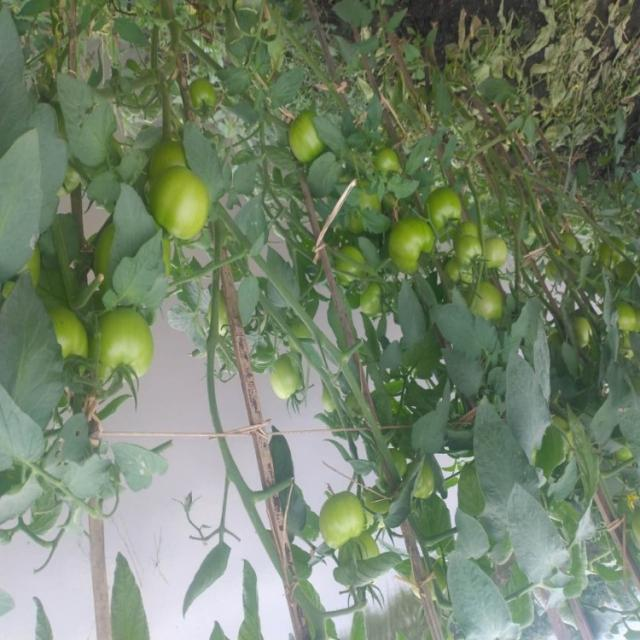tomato: (90, 302, 160, 383), (143, 174, 218, 248), (283, 104, 334, 182), (313, 490, 376, 549), (49, 295, 89, 371), (388, 217, 433, 278), (466, 283, 509, 340), (266, 350, 306, 406), (426, 179, 469, 230), (563, 312, 604, 354), (360, 285, 389, 327), (189, 75, 216, 112), (372, 150, 403, 181), (613, 302, 640, 337), (443, 251, 468, 286), (334, 249, 359, 273), (460, 234, 483, 260), (486, 229, 501, 264)
